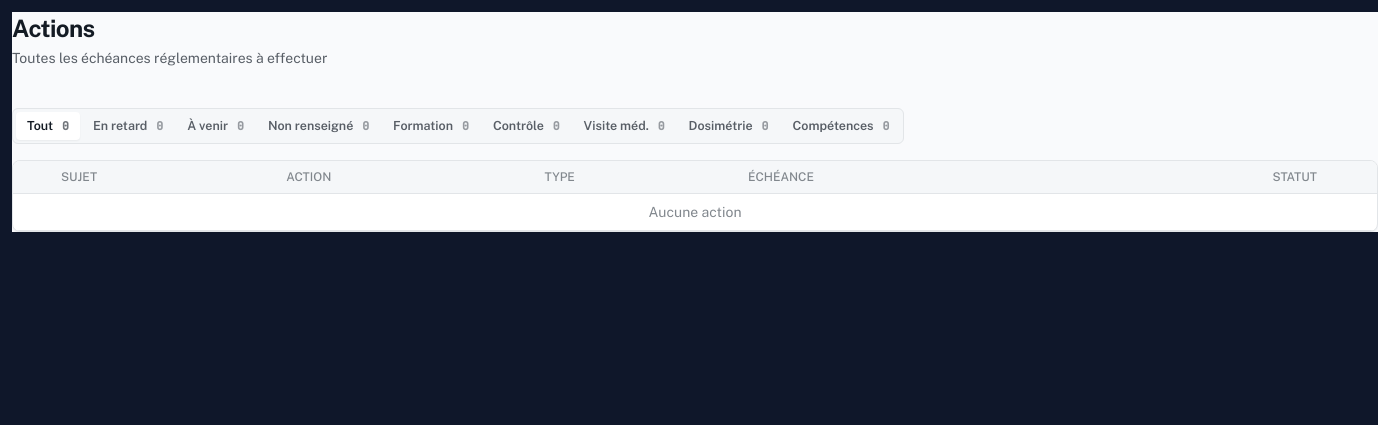
Scenario: Actions › should filter actions by Formation category
Check: the heading "Actions" is shown, box [12, 14, 94, 42]
Click the button "Formation 0" at (431, 126), box [382, 112, 480, 140]
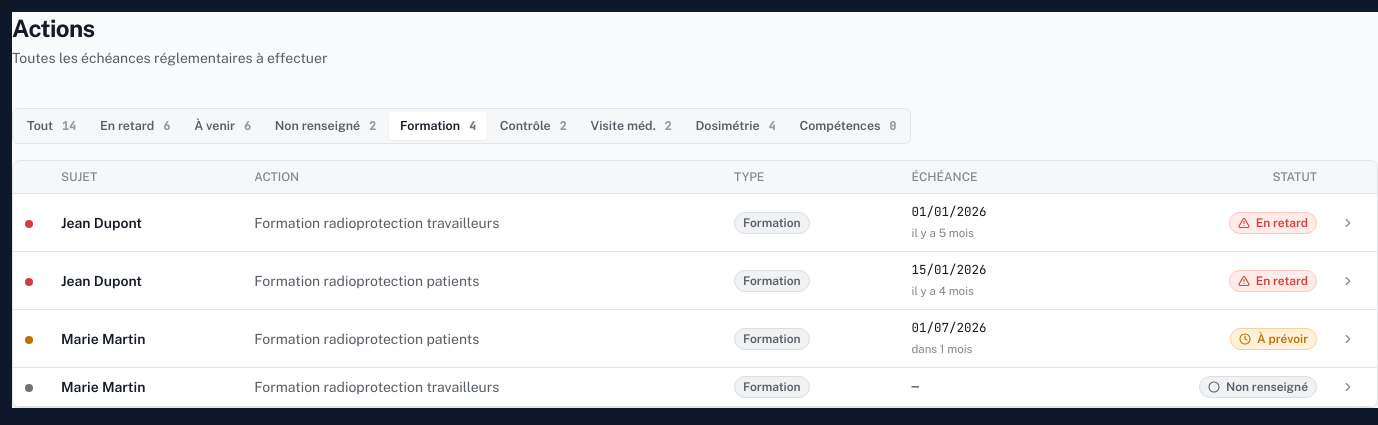
Check: the number of rows is 5, box [13, 161, 1377, 194]; [13, 194, 1377, 252]; [13, 252, 1377, 310]; [13, 310, 1377, 368]; [13, 368, 1377, 407]
Check: the 2nd row shows "Formation radioprotection", box [254, 215, 499, 231]
Check: the 3rd row shows "Formation radioprotection", box [254, 273, 479, 289]
